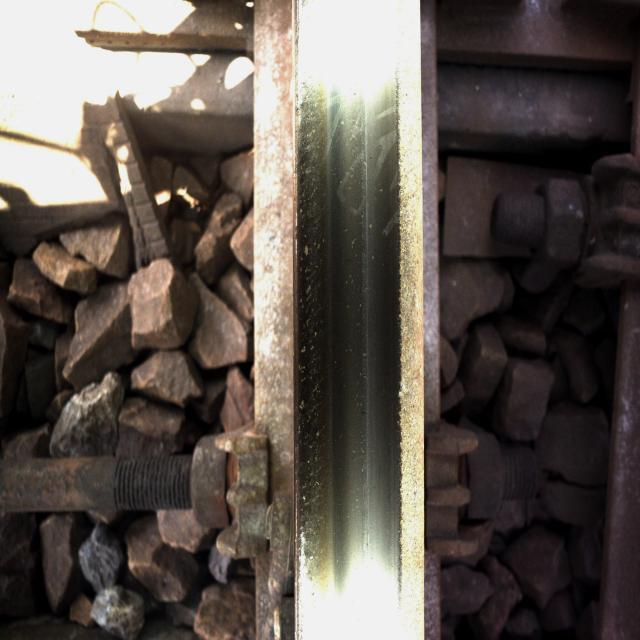normal: (297, 34, 385, 594)
